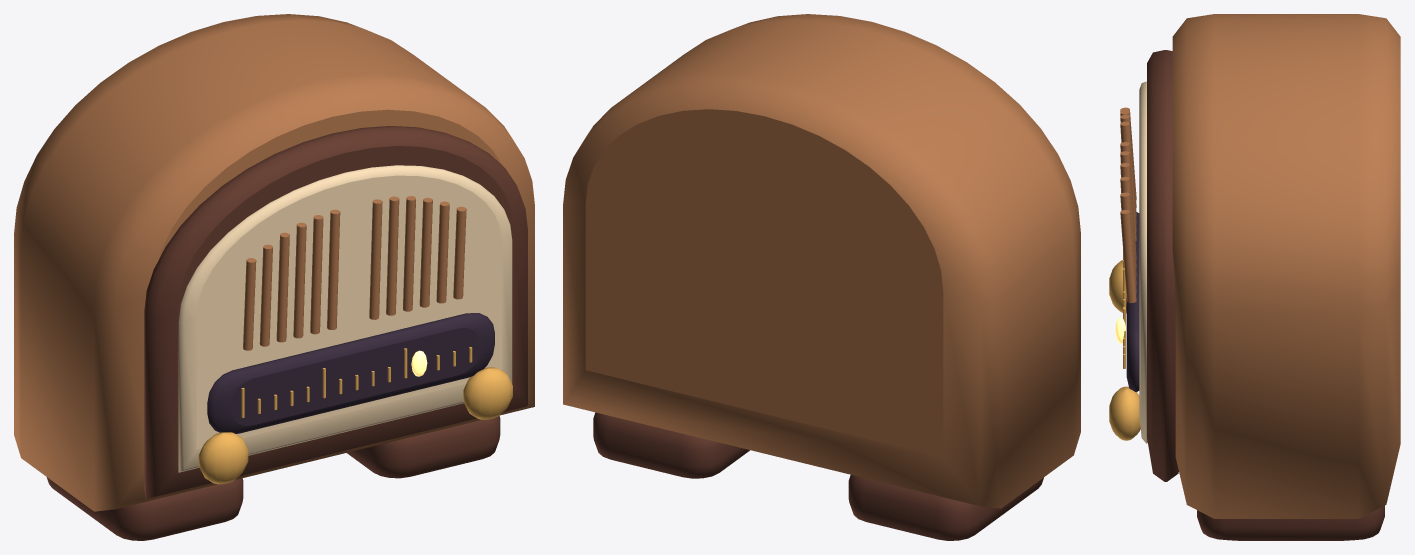
Rendered from atelier_radio.glb.
3 renders of one model, left to right at view 1: azimuth 30°, elevation 25°; view 2: azimuth 150°, elevation 25°; view 3: azimuth 270°, elevation 25°, orthographic.
Visible parts, largest first — view 1: Radio Capilla; view 2: Radio Capilla; view 3: Radio Capilla.
Boxes of the visible parts, x1,y1,x2,y2 form: Radio Capilla: [14, 14, 534, 540]; Radio Capilla: [563, 14, 1080, 540]; Radio Capilla: [1109, 14, 1400, 540].
Size of the model in its own units: 0.8 by 0.739 by 0.4726.
